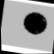correct: (21, 9, 50, 37)
